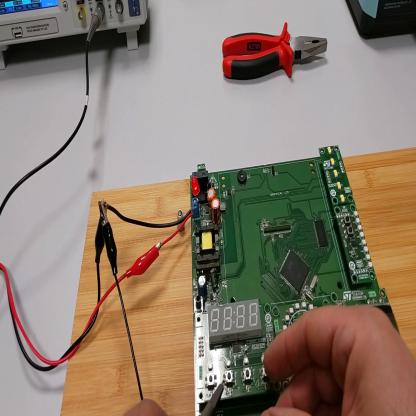hand: (264, 304, 416, 415), (128, 402, 165, 414)
low voltage board: (109, 146, 400, 414)
oscilloscope: (2, 1, 151, 71)
oscilloscope probe tip: (100, 201, 120, 277), (200, 380, 225, 416)
pliers: (222, 21, 330, 82)
welder station: (346, 1, 416, 40)
working area: (61, 145, 415, 415)
